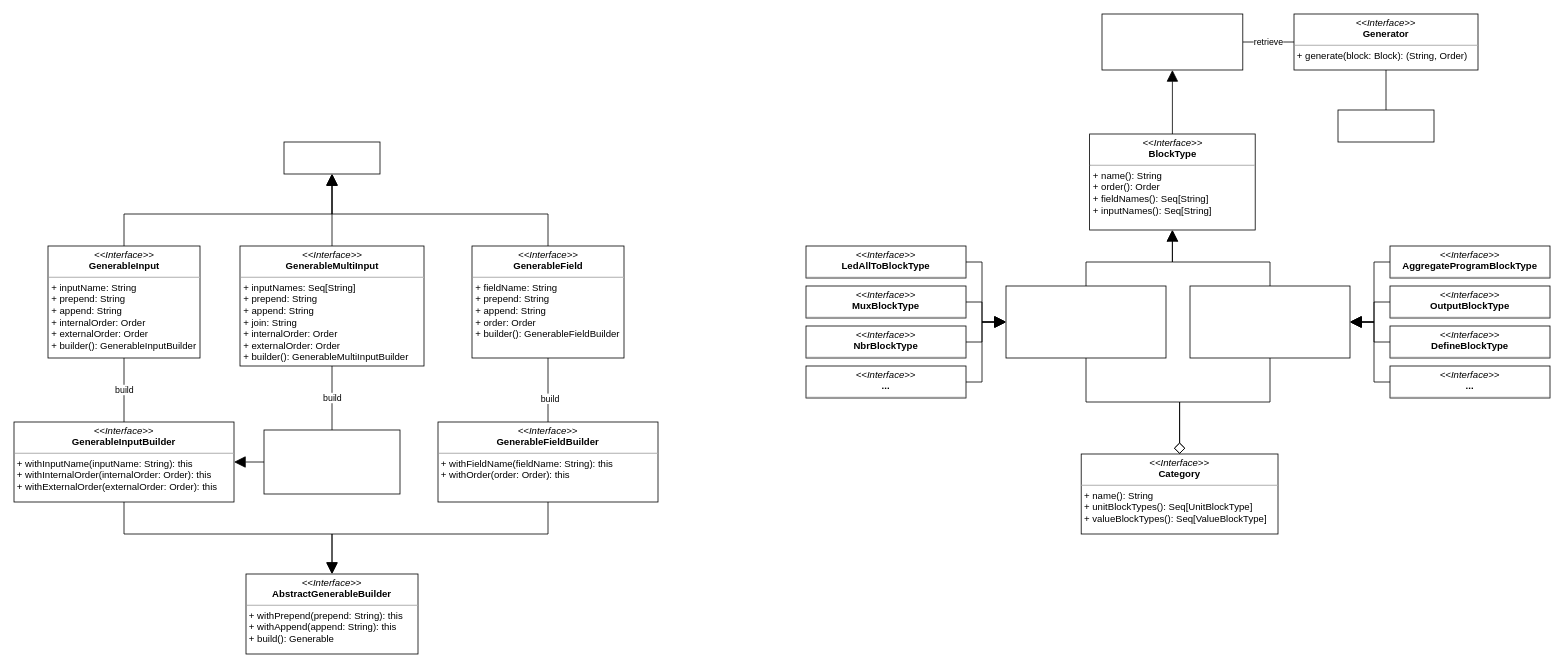
The diagram is 1564 pixels wide and 668 high, and some of its shapes have lost their labels. The shapes that lost their labels are listed below. From the top down, each one's centre as x and y in pixels, then its label:
point (1172, 41): <<Interface>> Generable + generator(): Generator
point (1385, 125): <<Interface>> Order
point (331, 157): <<Interface>> Generable
point (1085, 321): <<Interface>> UnitBlockType // Code instruction that doesn't return anything
point (1269, 321): <<Interface>> ValueBlockType // Code instruction that return a value
point (331, 461): <<Interface>> GenerableMultiInputBuilder + withJoin(join: String): this
